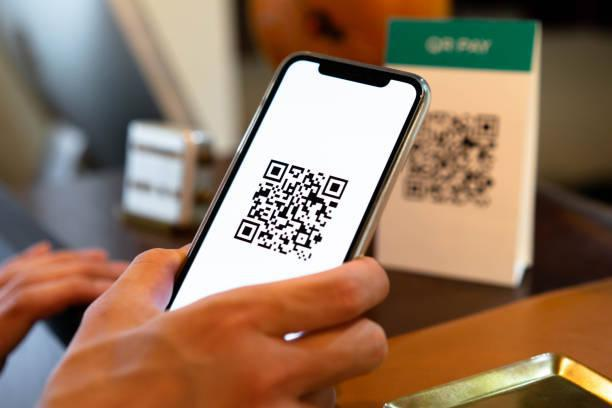Finder pattern: (472, 110, 501, 140), (320, 173, 348, 202), (232, 219, 263, 244), (260, 158, 289, 184), (403, 178, 427, 202)
